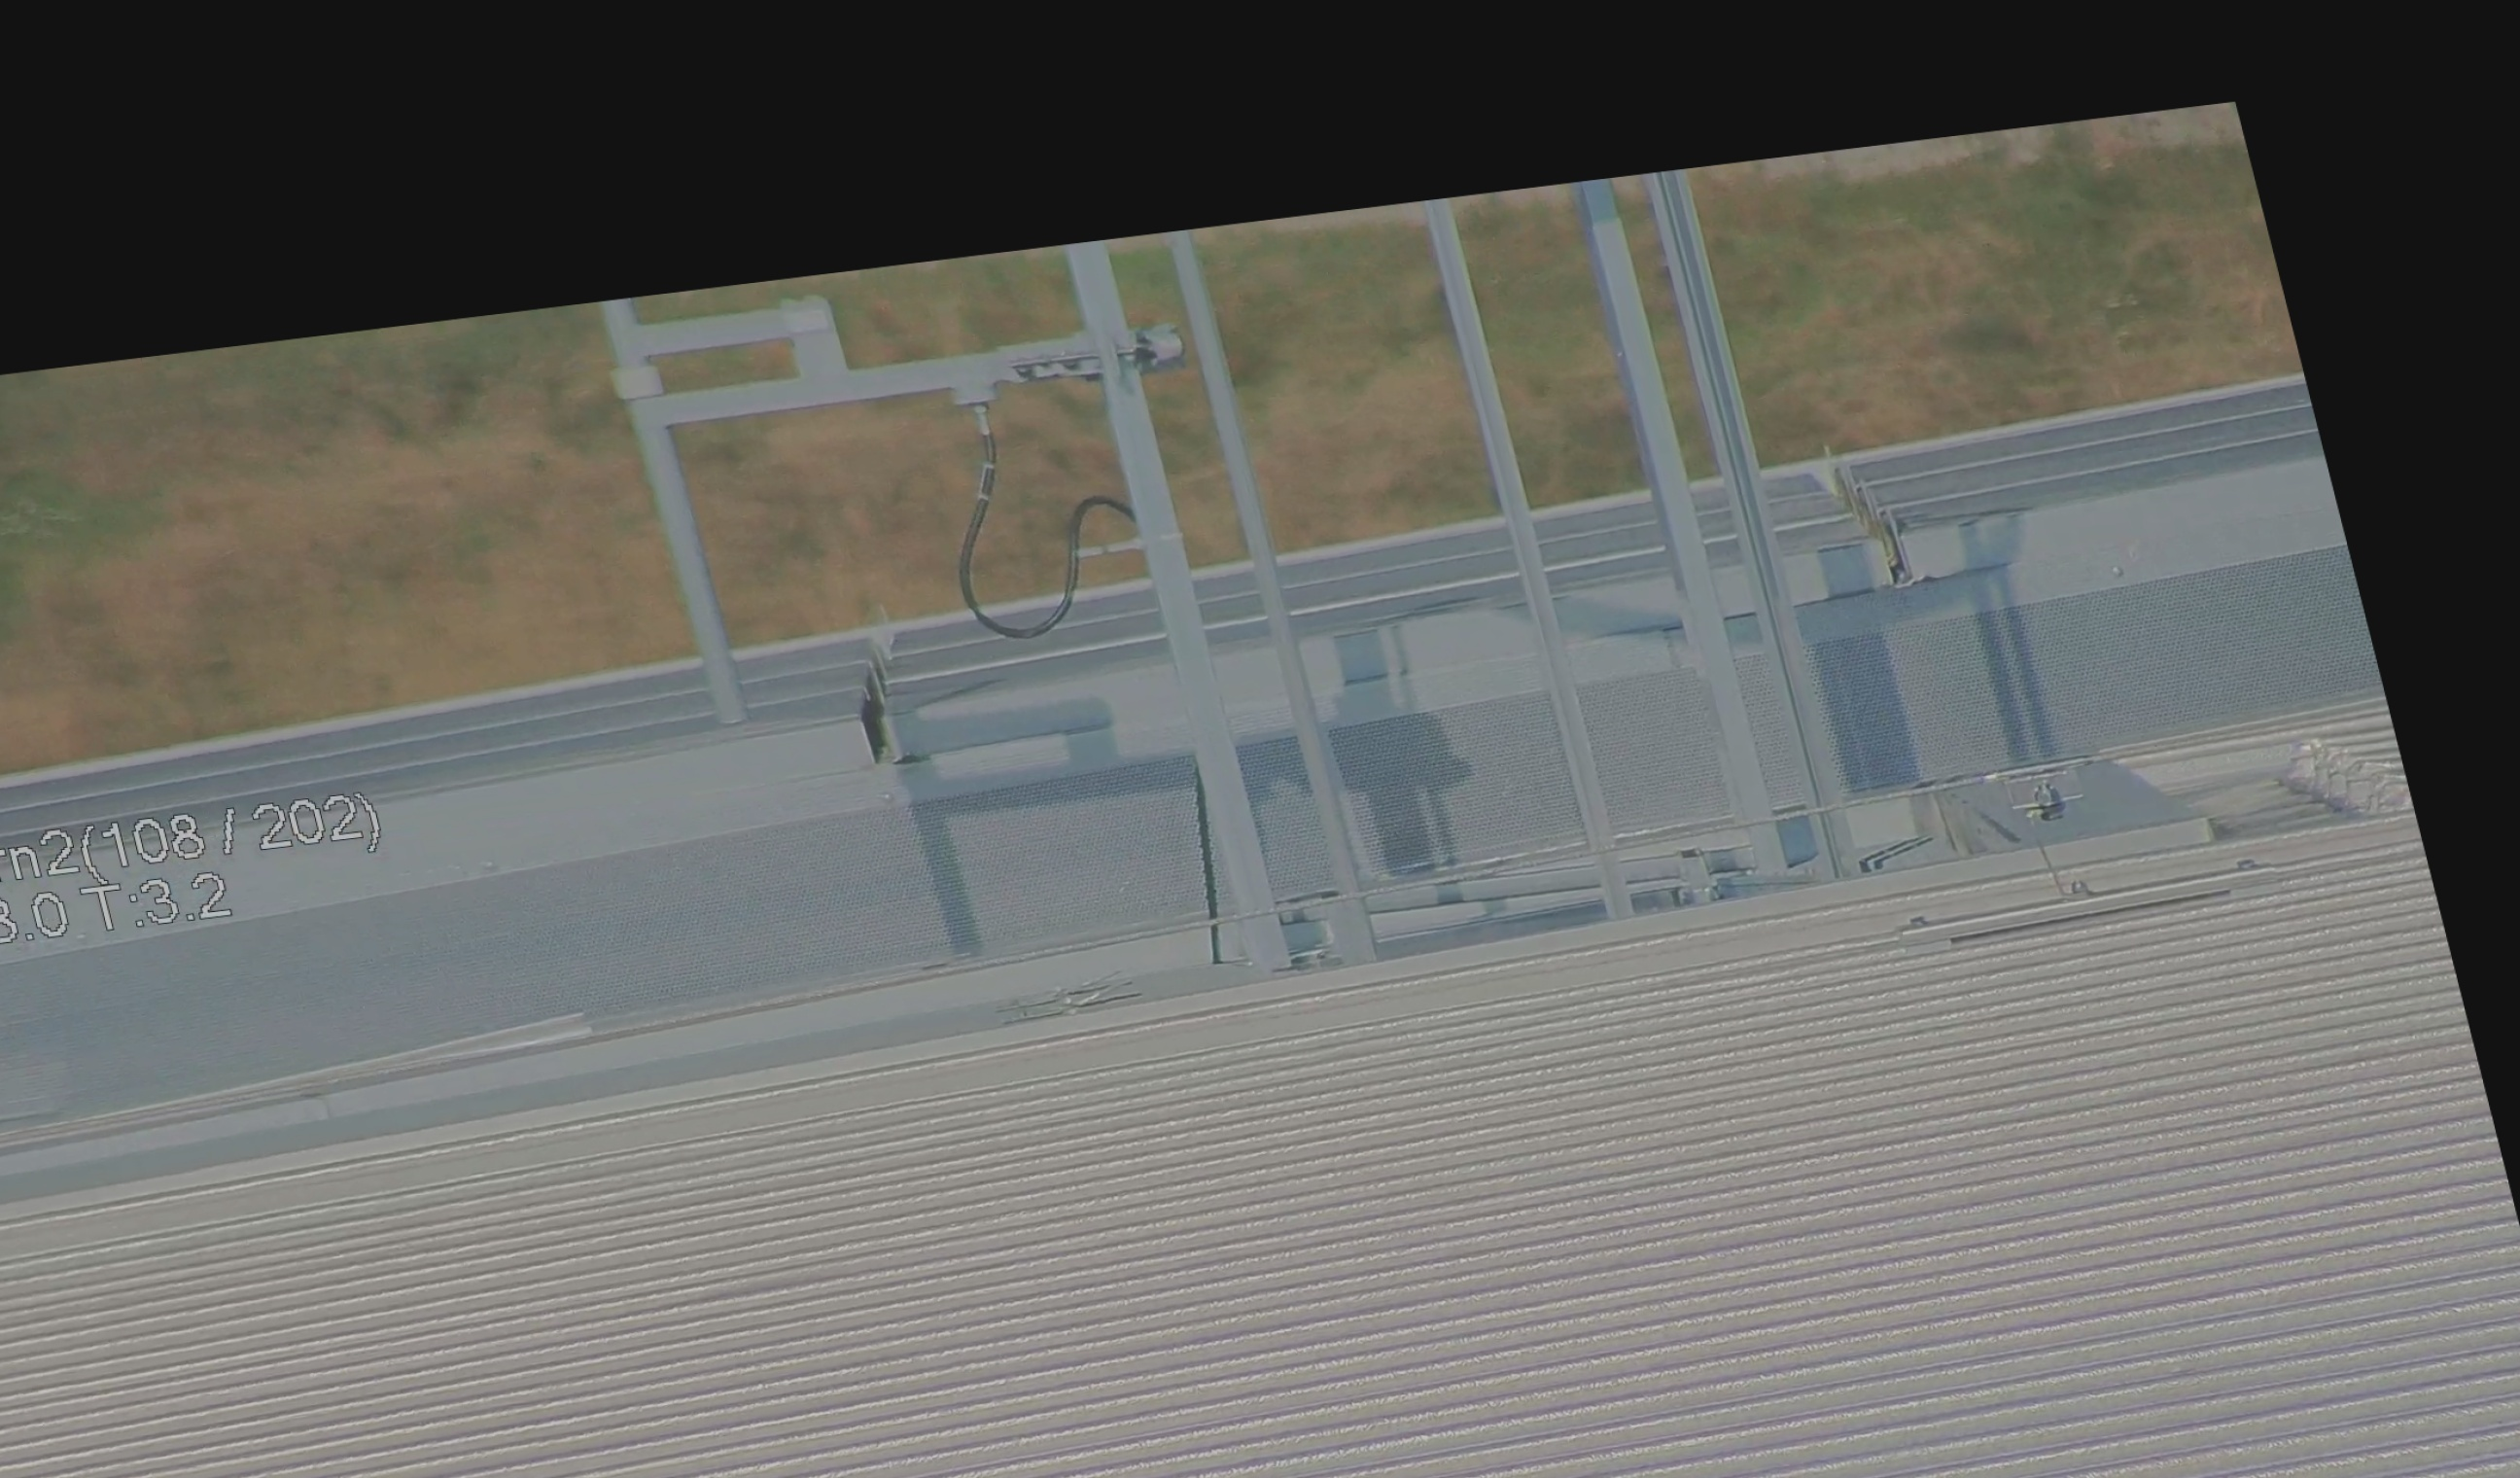Other: (2270, 716, 2418, 836)
